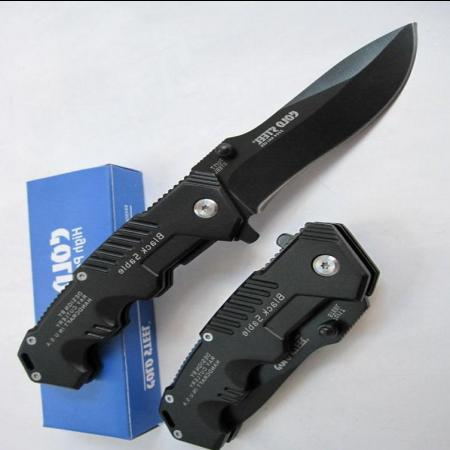long weapon: (189, 14, 431, 218)
